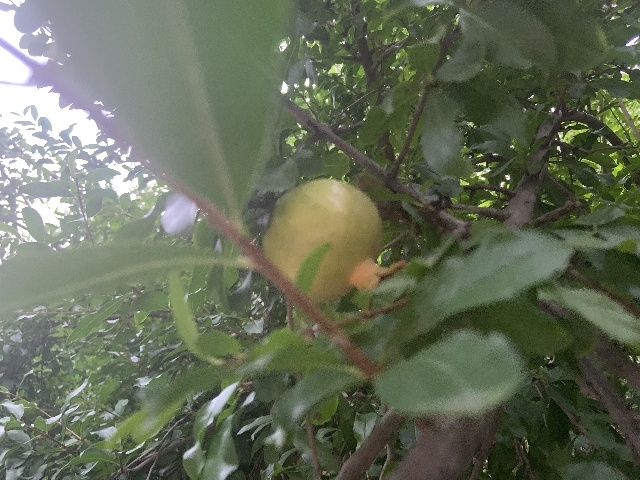mid-growth: (262, 178, 407, 309)
